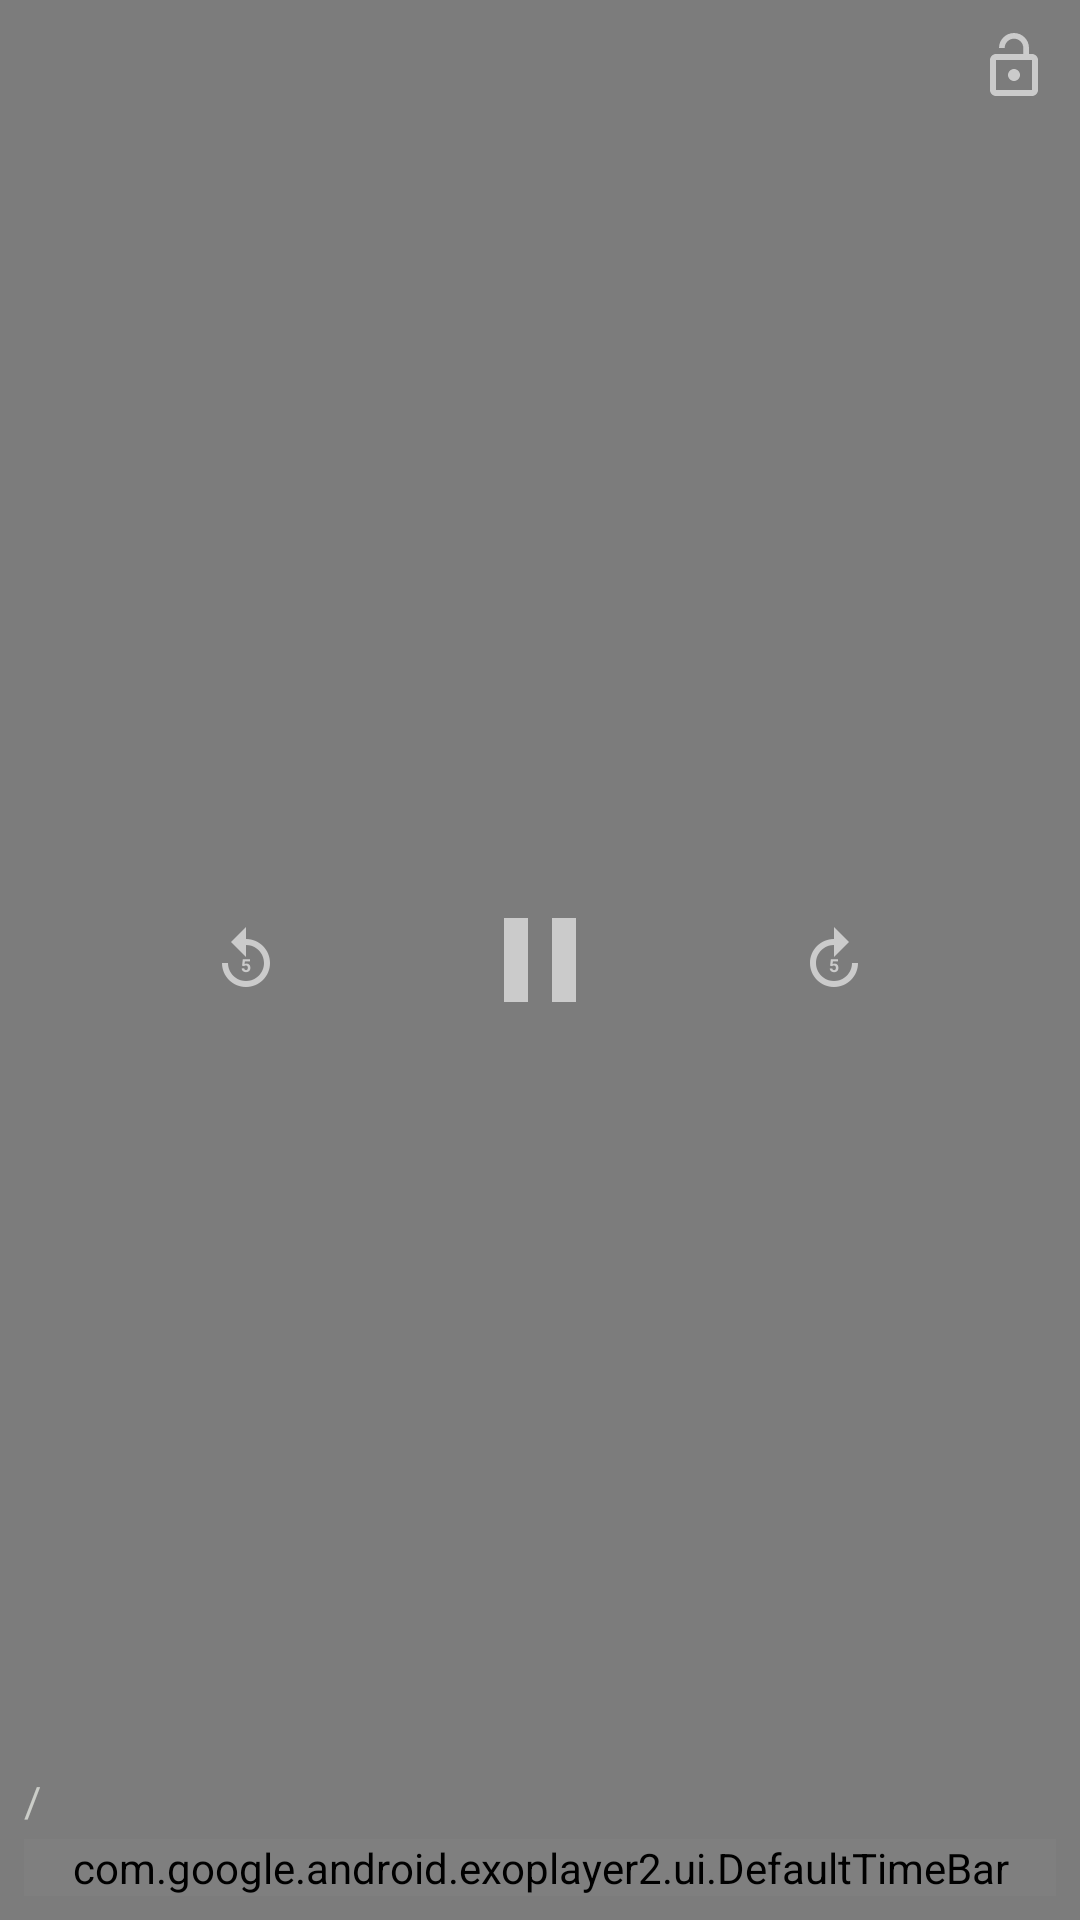

Point at icon controls on the screen. Image size 1080 x 1920, points as (x=x, y=y).
lock open: (x=1014, y=64)
pause vid: (x=540, y=960)
